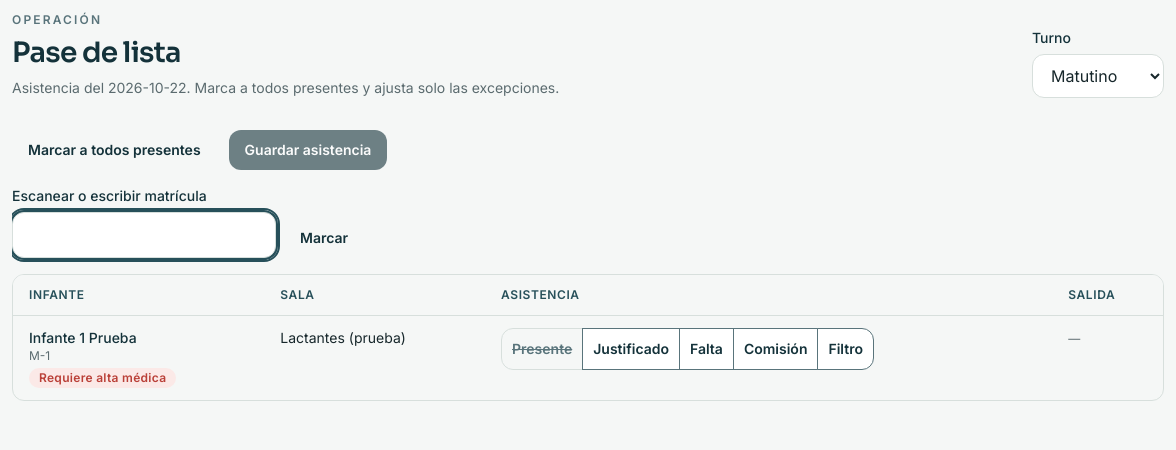
Test: escaneo en el pase de lista (RF-13) › con candado médico no se marca presente y se explica
Type "M-1" into the field labelled "Escanear o escribir matrícula" at (144, 235), box [12,212,276,258]
Then press Enter
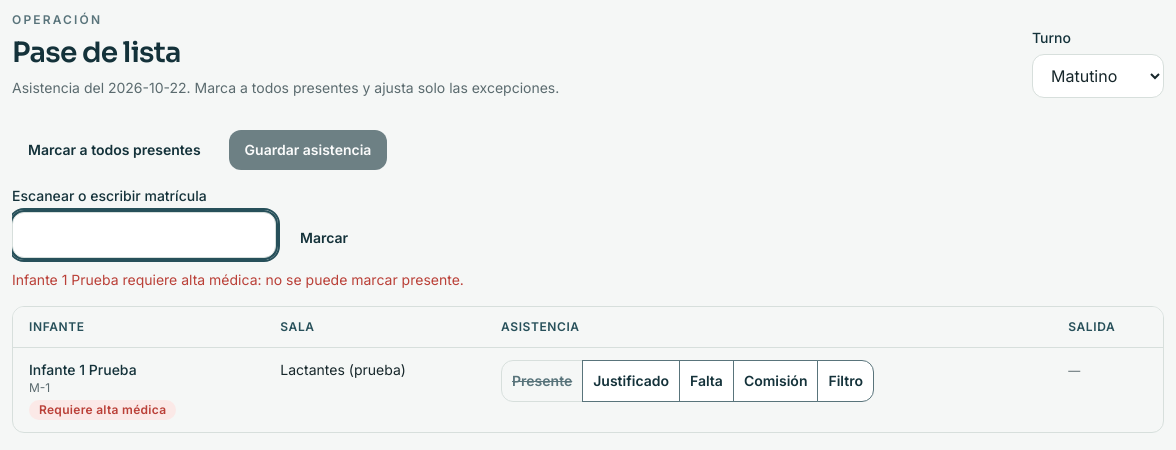
Expected: the button "Guardar asistencia" is disabled, [229,130,387,170]
Expected: the message reads "Infante 1 Prueba requiere alta médica: no se puede marcar presente.", [12,271,464,288]
